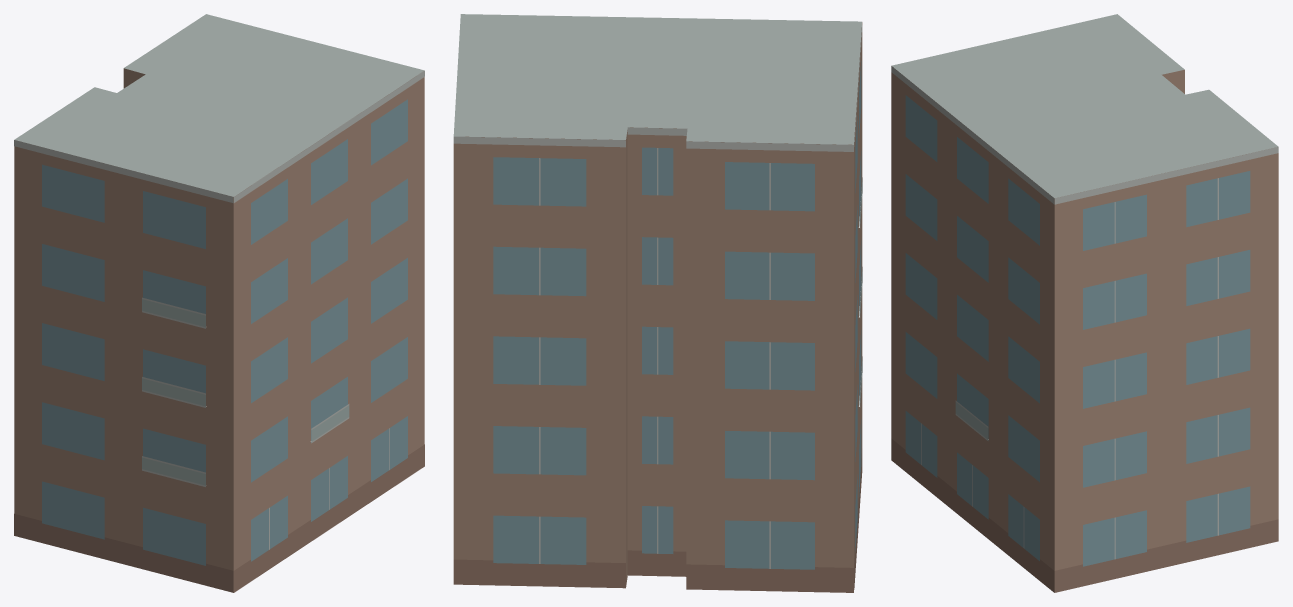
File: survey-upis-33033794.glb
3 renders of one model, left to right at view 1: azimuth 30°, elevation 25°; view 2: azimuth 150°, elevation 25°; view 3: azimuth 270°, elevation 25°, orthographic. The views are drawn at different scales.
Parts seen in each view (by area): view 1: survey-upis-33033794.tmp; view 2: survey-upis-33033794.tmp; view 3: survey-upis-33033794.tmp.
Boxes of the visible parts, x1,y1,x2,y2 form: survey-upis-33033794.tmp: (14,14,424,592); survey-upis-33033794.tmp: (453,14,862,592); survey-upis-33033794.tmp: (891,14,1278,592).
Bounding box in the file's own units: 15.19 × 15.15 × 13.49.
